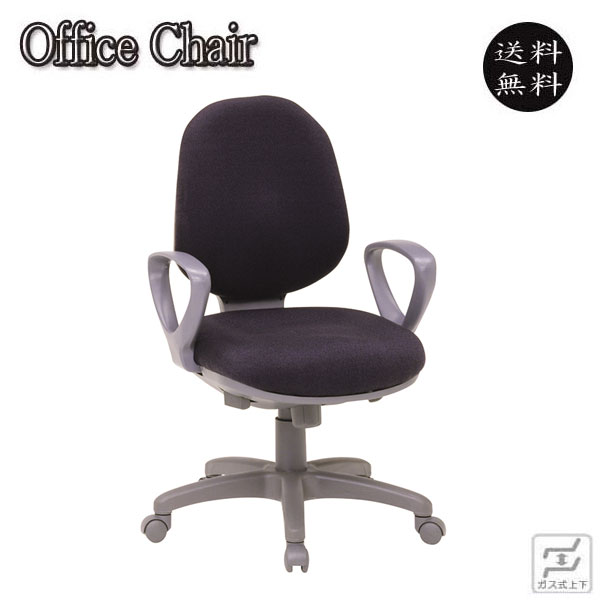chairs: (140, 93, 450, 578)
